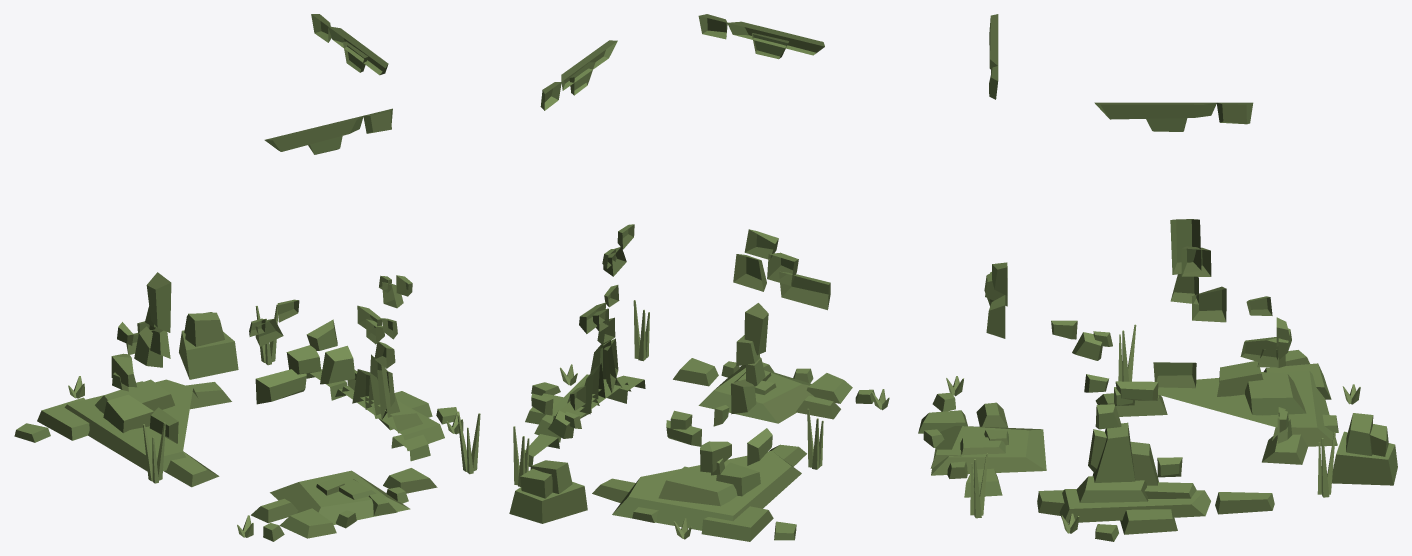
Rendered from SA_Bld_OfficeOld_Growth_01.002.gltf.
3 views of the same model, side by side, from view 1: azimuth 30°, elevation 25°; view 2: azimuth 150°, elevation 25°; view 3: azimuth 270°, elevation 25° (orthographic). The views are drawn at different scales.
Visible parts, largest first — view 1: SA_Bld_OfficeOld_Growth_01.002; view 2: SA_Bld_OfficeOld_Growth_01.002; view 3: SA_Bld_OfficeOld_Growth_01.002.
Boxes of the visible parts, left/top/right/bottom form: SA_Bld_OfficeOld_Growth_01.002: left=14, top=14, right=480, bottom=541; SA_Bld_OfficeOld_Growth_01.002: left=509, top=14, right=889, bottom=541; SA_Bld_OfficeOld_Growth_01.002: left=918, top=14, right=1397, bottom=541.
Bounding box in the file's own units: 15.89 × 16.16 × 17.39.
1 material, 1 textured.
